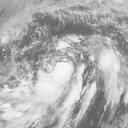cyclone: (34, 61, 74, 103)
